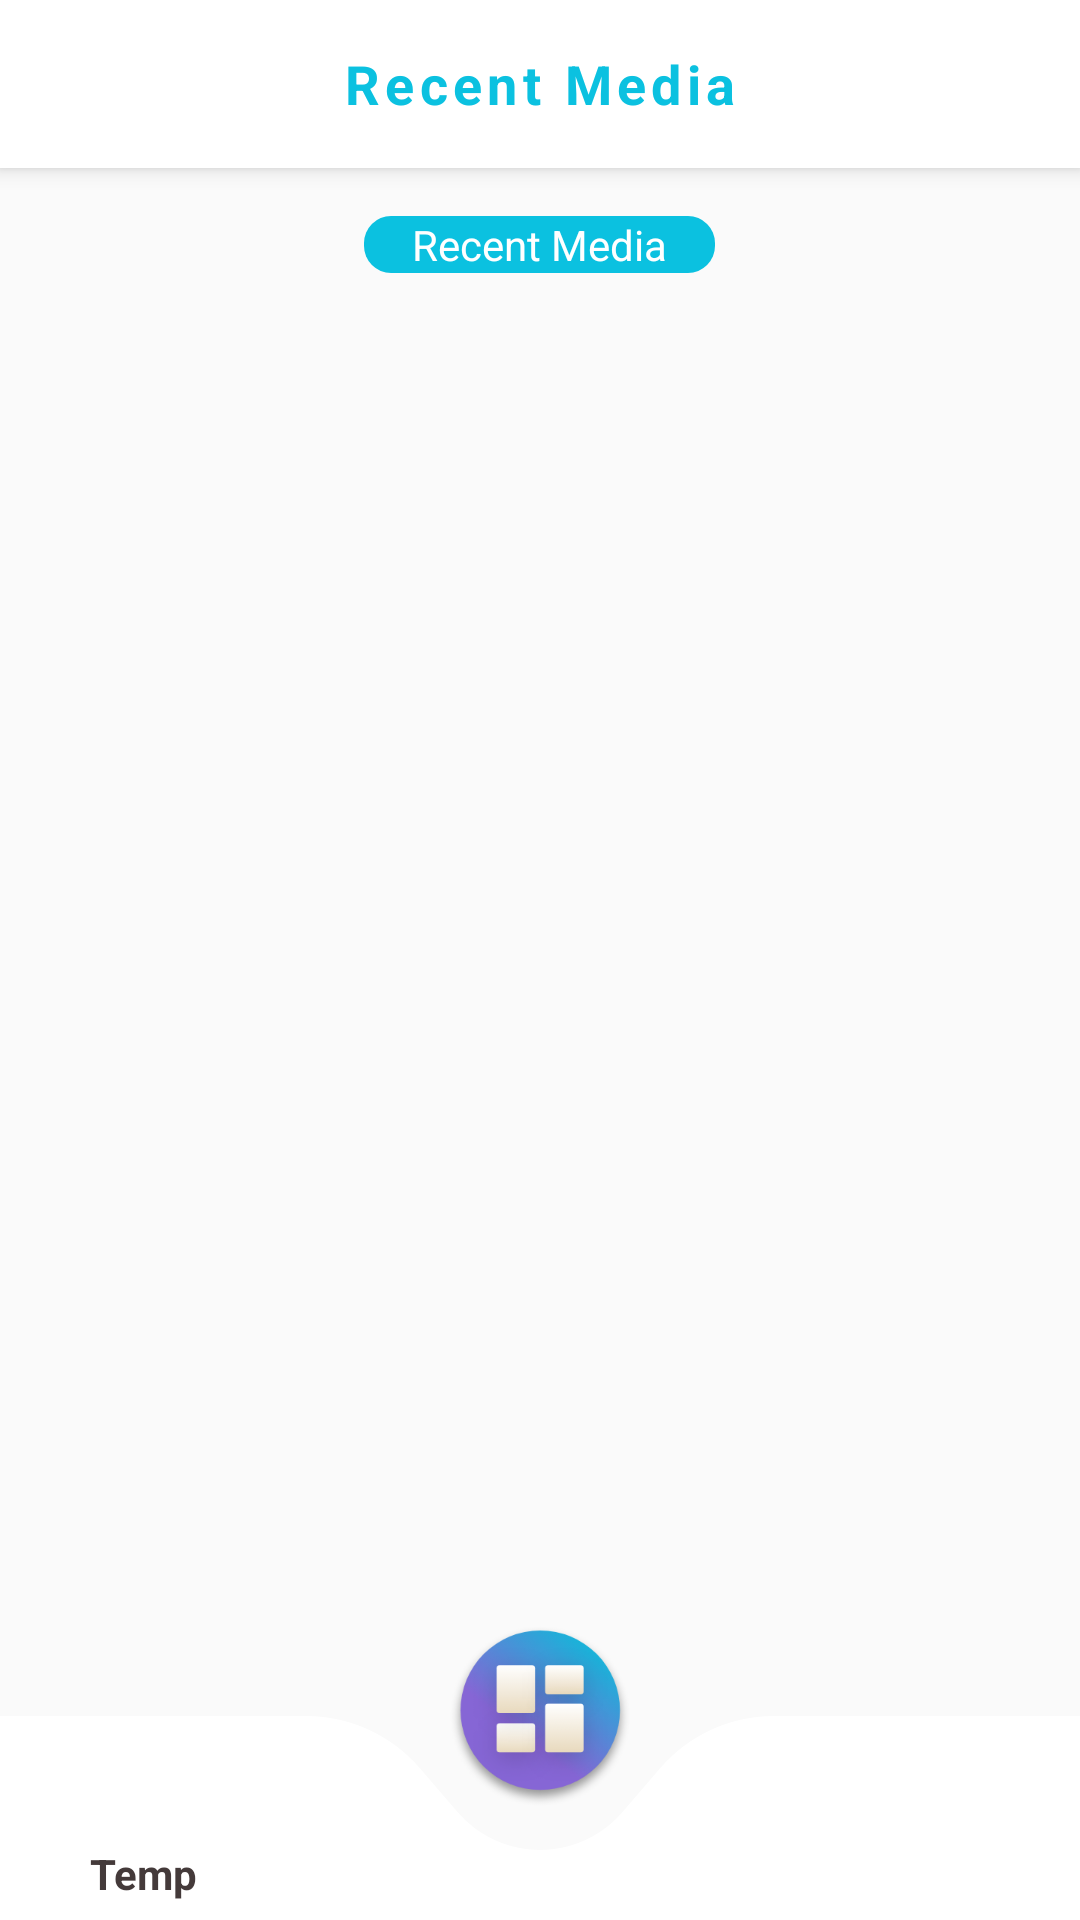

Where icons sit on this 1080x1920 app screen, as (x1, y1, x2, y2):
symbol: (457, 1630, 623, 1799)
